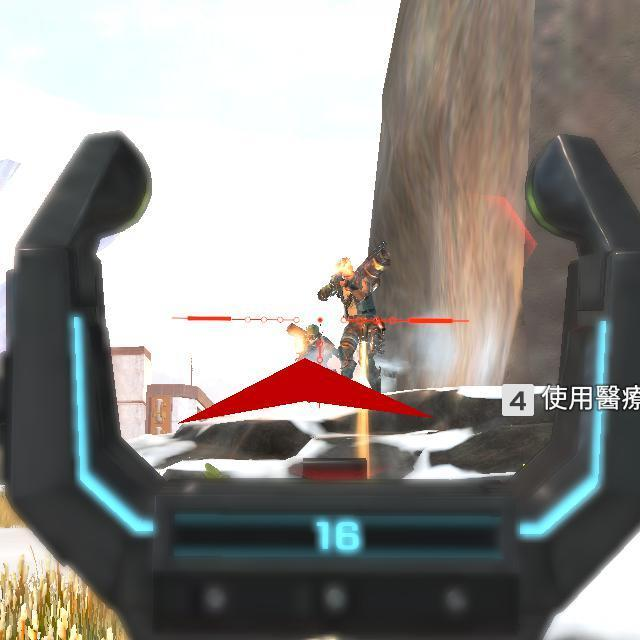avatar: (313, 251, 396, 398)
